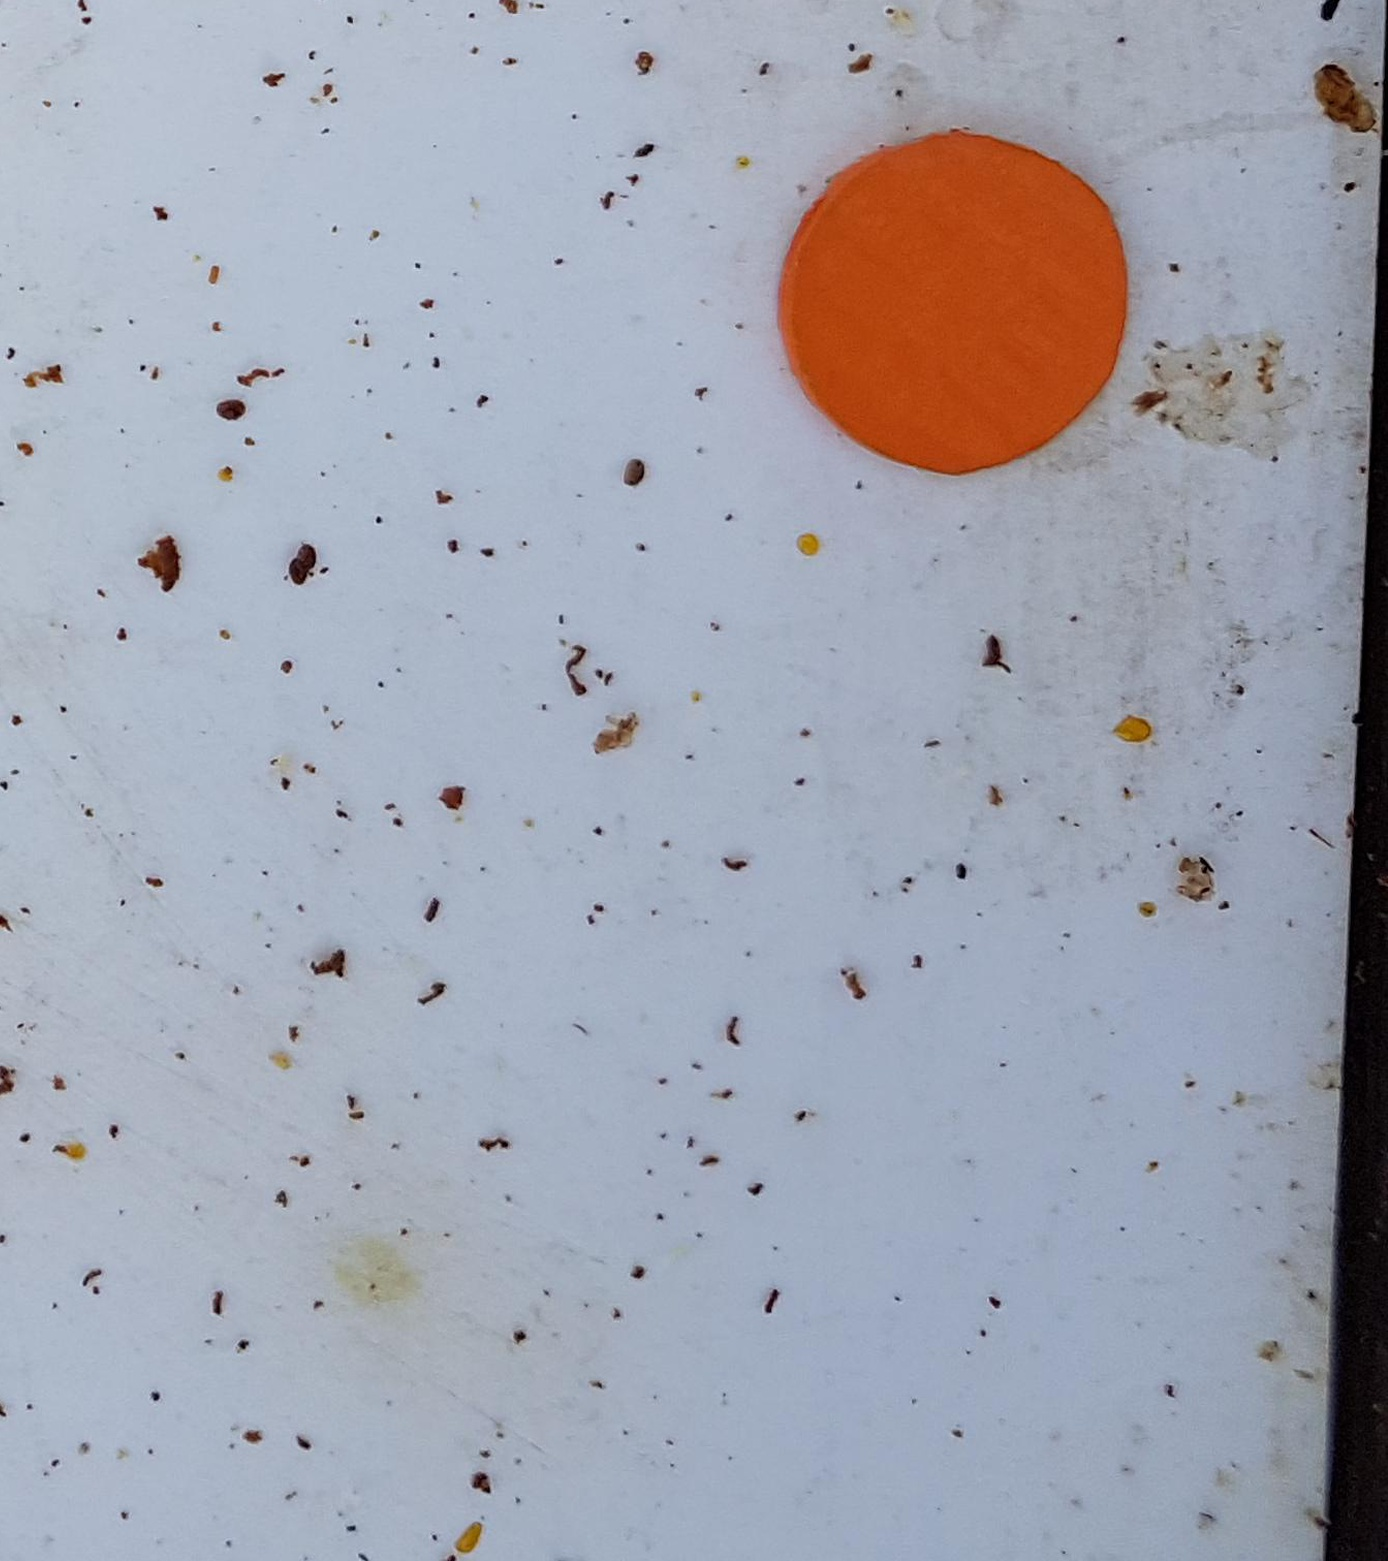Varroa: (289, 533, 330, 573), (275, 553, 314, 594), (283, 547, 315, 580), (615, 456, 647, 489), (214, 395, 247, 427)
